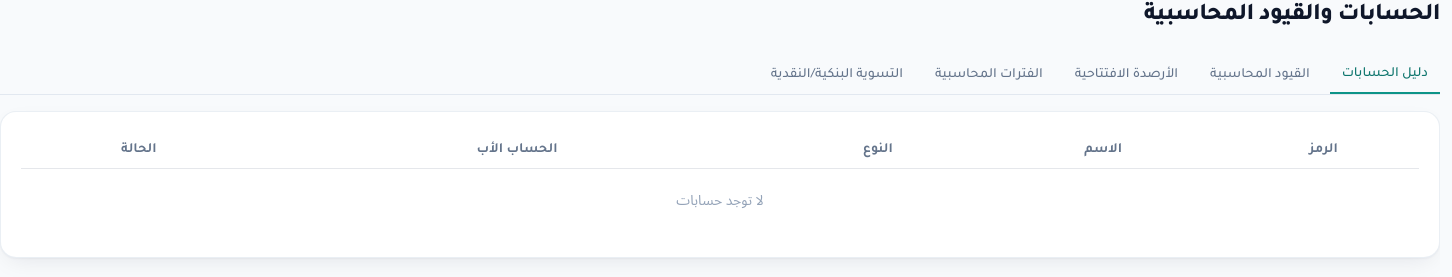
AccountingPage - Opening Balances / Fiscal Periods tabs › Fiscal Periods tab shows the empty state and no manage actions without accounting.period.manage
Click the button "الفترات المحاسبية": (989, 75) [923,56,1055,94]
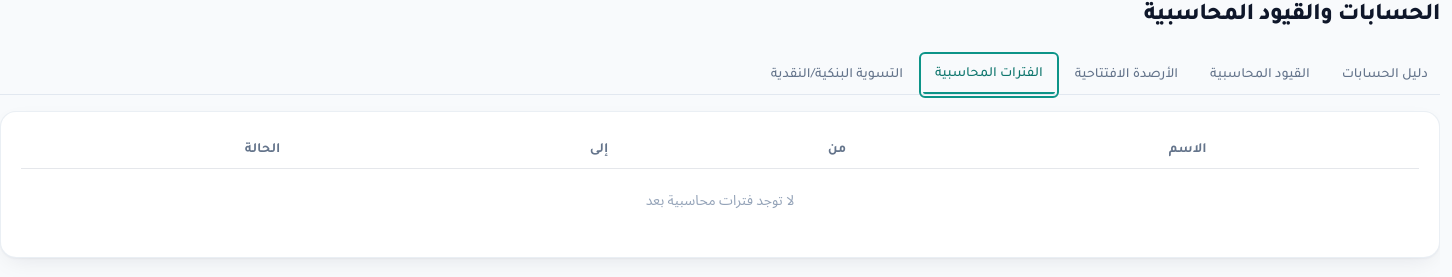
Expected: the text "لا توجد فترات محاسبية بعد" is shown, [21,168,1419,237]
